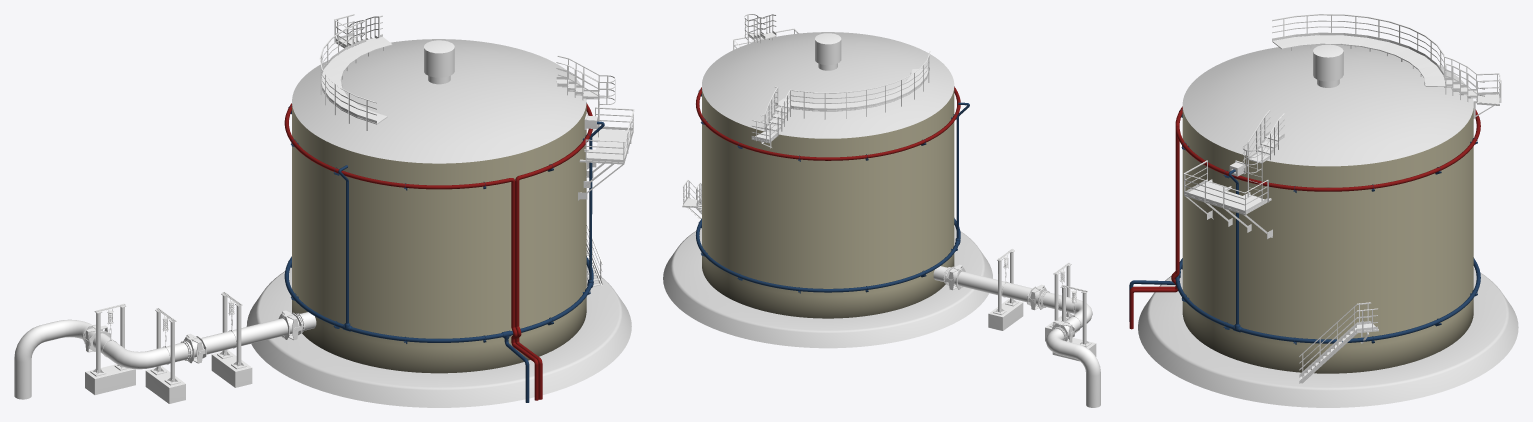
Rendered from SM_OilStorage_2K.fbx.
3 renders of one model, left to right at view 1: azimuth 30°, elevation 25°; view 2: azimuth 150°, elevation 25°; view 3: azimuth 270°, elevation 25°, orthographic. The views are drawn at different scales.
Parts seen in each view (by area): view 1: SM_OilWall_2K, SM_OilRoof_2K, SM_Foundatoin_2K, SM_BigTube_2K_LOD0, SM_SmallPipes_2K_LOD0, SM_Porch_2K_LOD0, SM_IndustrialSite_V1_2K_LOD0, SM_BigTubeConcrateSupport_2K_LOD0, SM_BigVentilation_2K_LOD0, SM_Ladder_V1_2K_LOD0; view 2: SM_OilWall_2K, SM_OilRoof_2K, SM_Foundatoin_2K, SM_BigTube_2K_LOD0, SM_SmallPipes_2K_LOD0, SM_IndustrialSite_V1_2K_LOD0, SM_BigTubeConcrateSupport_2K_LOD0, SM_Ladder_V1_2K_LOD0, SM_BigVentilation_2K_LOD0, SM_Porch_2K_LOD0; view 3: SM_OilWall_2K, SM_OilRoof_2K, SM_Foundatoin_2K, SM_SmallPipes_2K_LOD0, SM_IndustrialSite_V1_2K_LOD0, SM_Porch_2K_LOD0, SM_Ladder_V1_2K_LOD0, SM_BigVentilation_2K_LOD0, SM_Ladder_V3_2K_LOD0, SM_Ladder_V2_2K_LOD0.
Part boxes in pixels (box(x1,y1,x2,y2)): SM_OilWall_2K: box(292, 103, 586, 373); SM_OilRoof_2K: box(292, 39, 586, 163); SM_Foundatoin_2K: box(246, 267, 631, 407); SM_BigTube_2K_LOD0: box(14, 292, 316, 399); SM_SmallPipes_2K_LOD0: box(284, 102, 604, 402); SM_Porch_2K_LOD0: box(556, 55, 634, 200); SM_IndustrialSite_V1_2K_LOD0: box(319, 15, 392, 130); SM_BigTubeConcrateSupport_2K_LOD0: box(85, 350, 252, 403); SM_BigVentilation_2K_LOD0: box(424, 40, 454, 84); SM_Ladder_V1_2K_LOD0: box(334, 14, 379, 49); SM_OilWall_2K: box(702, 88, 954, 318); SM_OilRoof_2K: box(702, 32, 954, 138); SM_Foundatoin_2K: box(663, 227, 992, 348); SM_BigTube_2K_LOD0: box(933, 248, 1100, 407); SM_SmallPipes_2K_LOD0: box(696, 86, 969, 293); SM_IndustrialSite_V1_2K_LOD0: box(774, 51, 930, 119); SM_BigTubeConcrateSupport_2K_LOD0: box(988, 299, 1096, 361); SM_Ladder_V1_2K_LOD0: box(751, 87, 790, 148); SM_BigVentilation_2K_LOD0: box(815, 33, 841, 70); SM_Porch_2K_LOD0: box(733, 14, 798, 49); SM_OilWall_2K: box(1182, 108, 1473, 373); SM_OilRoof_2K: box(1182, 44, 1473, 166); SM_Foundatoin_2K: box(1138, 268, 1518, 407); SM_SmallPipes_2K_LOD0: box(1129, 106, 1480, 344); SM_IndustrialSite_V1_2K_LOD0: box(1272, 14, 1446, 94); SM_Porch_2K_LOD0: box(1183, 110, 1284, 239); SM_Ladder_V1_2K_LOD0: box(1444, 56, 1501, 118); SM_BigVentilation_2K_LOD0: box(1313, 44, 1343, 87); SM_Ladder_V3_2K_LOD0: box(1299, 304, 1356, 383); SM_Ladder_V2_2K_LOD0: box(1357, 302, 1378, 343).
Size of what is drawn, in the model's own units: 31.93 by 17.07 by 20.26.
